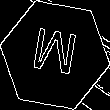M_S: (29, 26, 81, 84)
